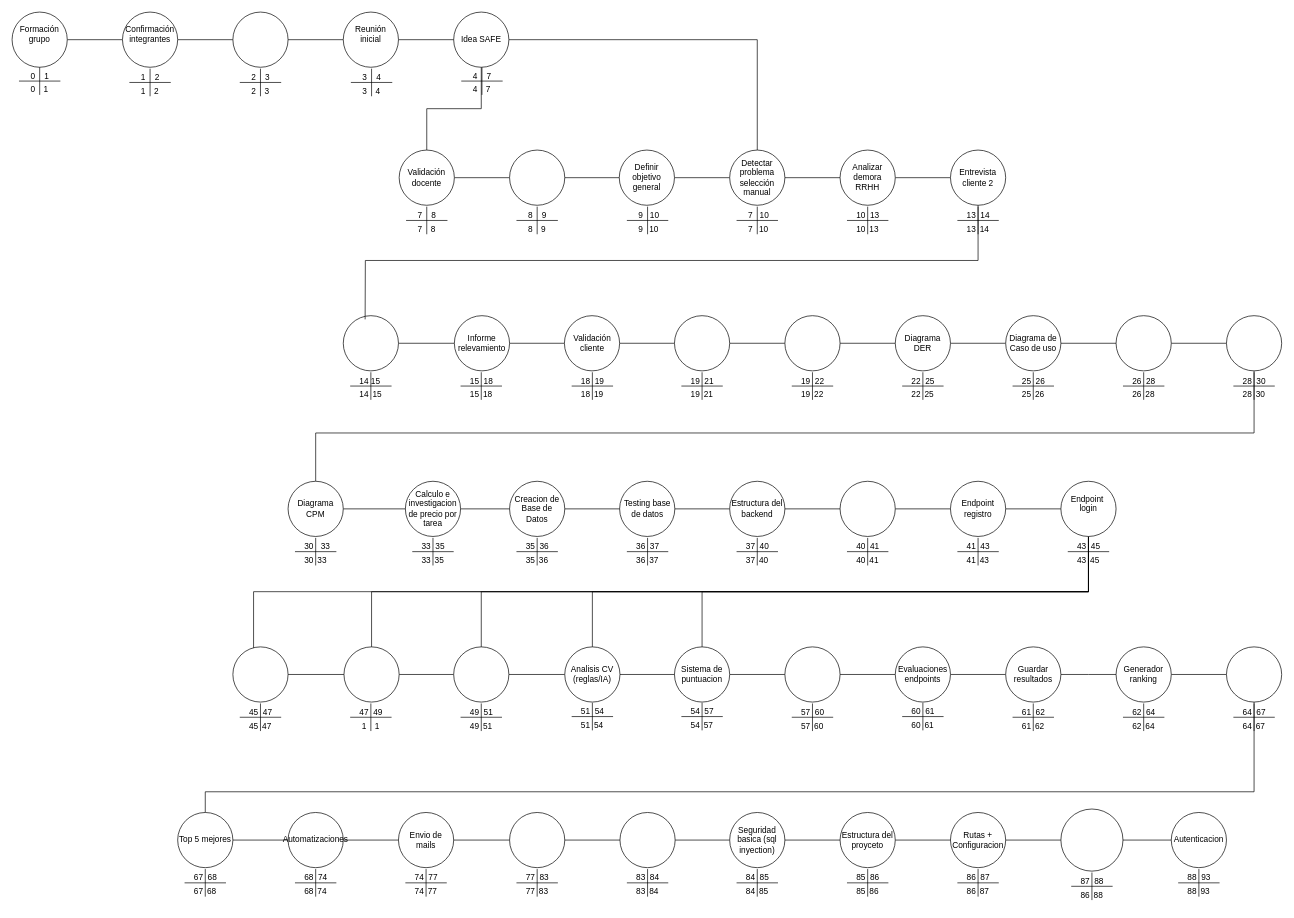
Image size: 1294x918. Some labels were removed from this diagram. The shapes that lost their labels are listed below. From the top down, each one's centre as x and y in pixels, then its label:
pixel 260 39: Asignación roles
pixel 537 177: Entrevista Cliente 1
pixel 370 343: Encuesta 1
pixel 702 343: Tecnologías
pixel 812 343: Requisitos Funcionales
pixel 1143 343: Bocetos de vistas
pixel 1254 343: Diagrama GANTT
pixel 867 508: Conexion con base de datos
pixel 260 674: Endpoint subir CV
pixel 371 674: Validacion archivo
pixel 481 674: Parser CV(PDF)
pixel 812 674: Control de estados
pixel 1254 674: Endpoint ranking
pixel 537 840: Integracion con n8n
pixel 647 840: Pruebas endpoints
pixel 1091 839: Componentes base(botones, inputs, navbar)
